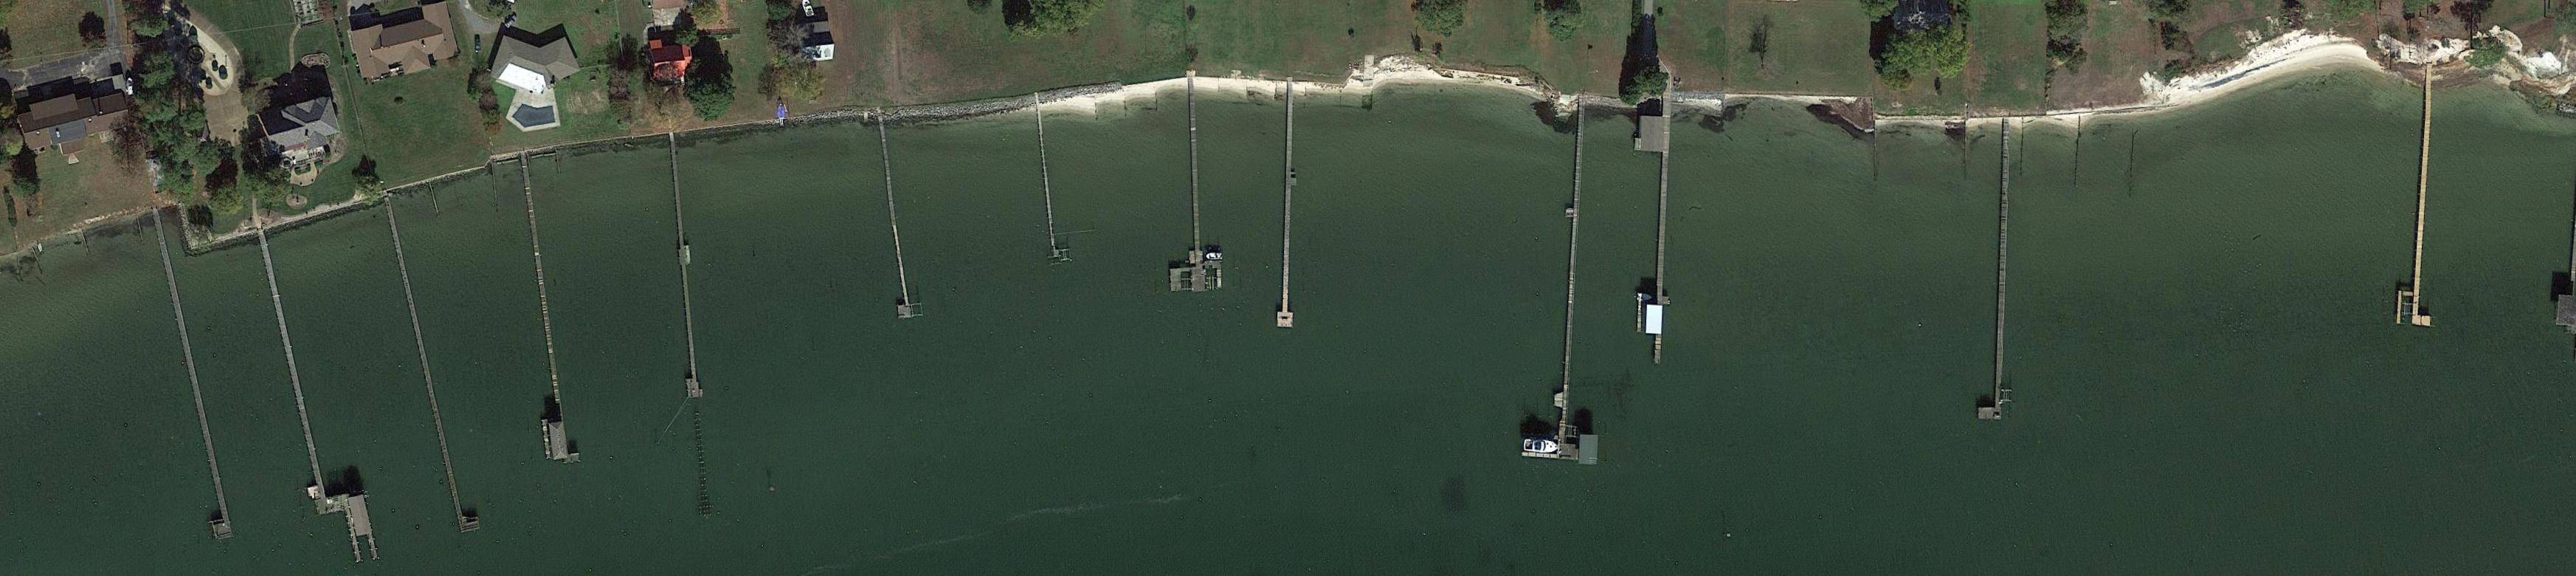harbor: (256, 242, 379, 571), (1521, 135, 1608, 464), (151, 247, 235, 541), (398, 250, 481, 533), (516, 191, 580, 467), (1623, 104, 1672, 364), (2395, 72, 2441, 326), (1163, 102, 1222, 293), (871, 127, 925, 321), (1976, 118, 2011, 421), (669, 173, 703, 398), (1037, 122, 1073, 263), (1277, 109, 1298, 329)
ship: (1521, 438, 1557, 454), (125, 76, 135, 97), (777, 102, 787, 122), (1204, 252, 1226, 260), (1636, 293, 1653, 303)
